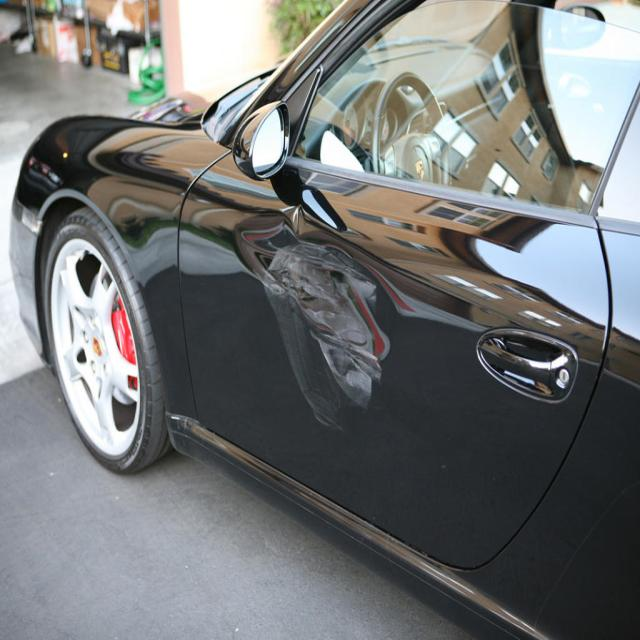dent: (230, 202, 411, 413)
scratch: (261, 242, 383, 432)
